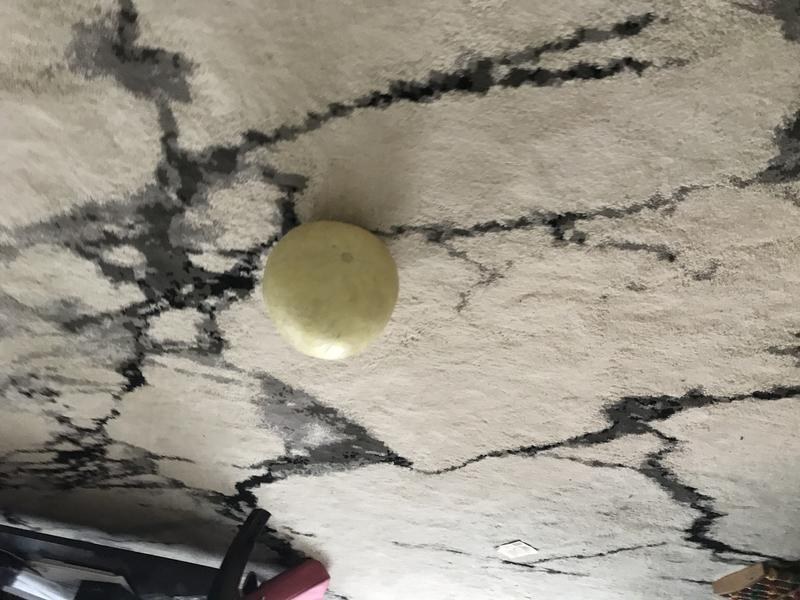honeydew: (259, 206, 404, 367)
